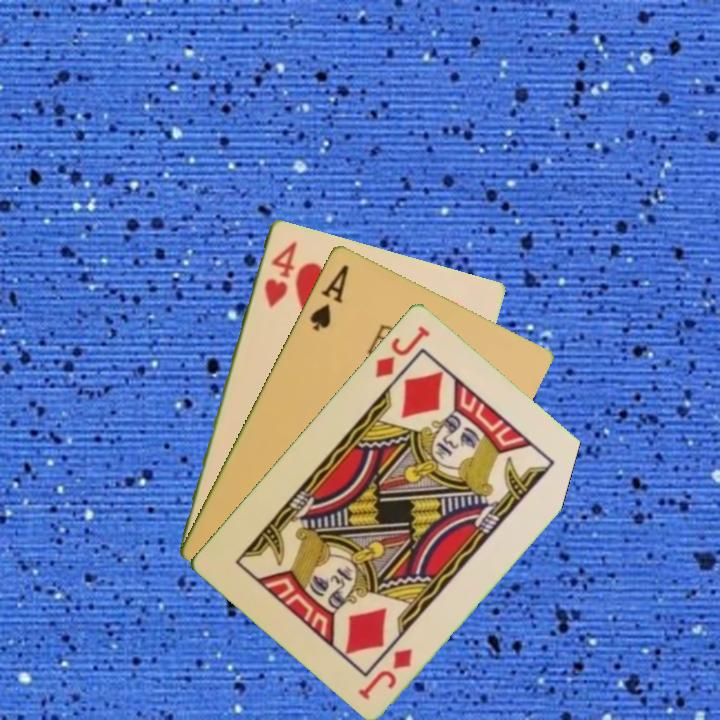4h: (260, 236, 300, 310)
As: (306, 261, 352, 334)
Jd: (371, 321, 433, 381), (354, 643, 416, 703)
